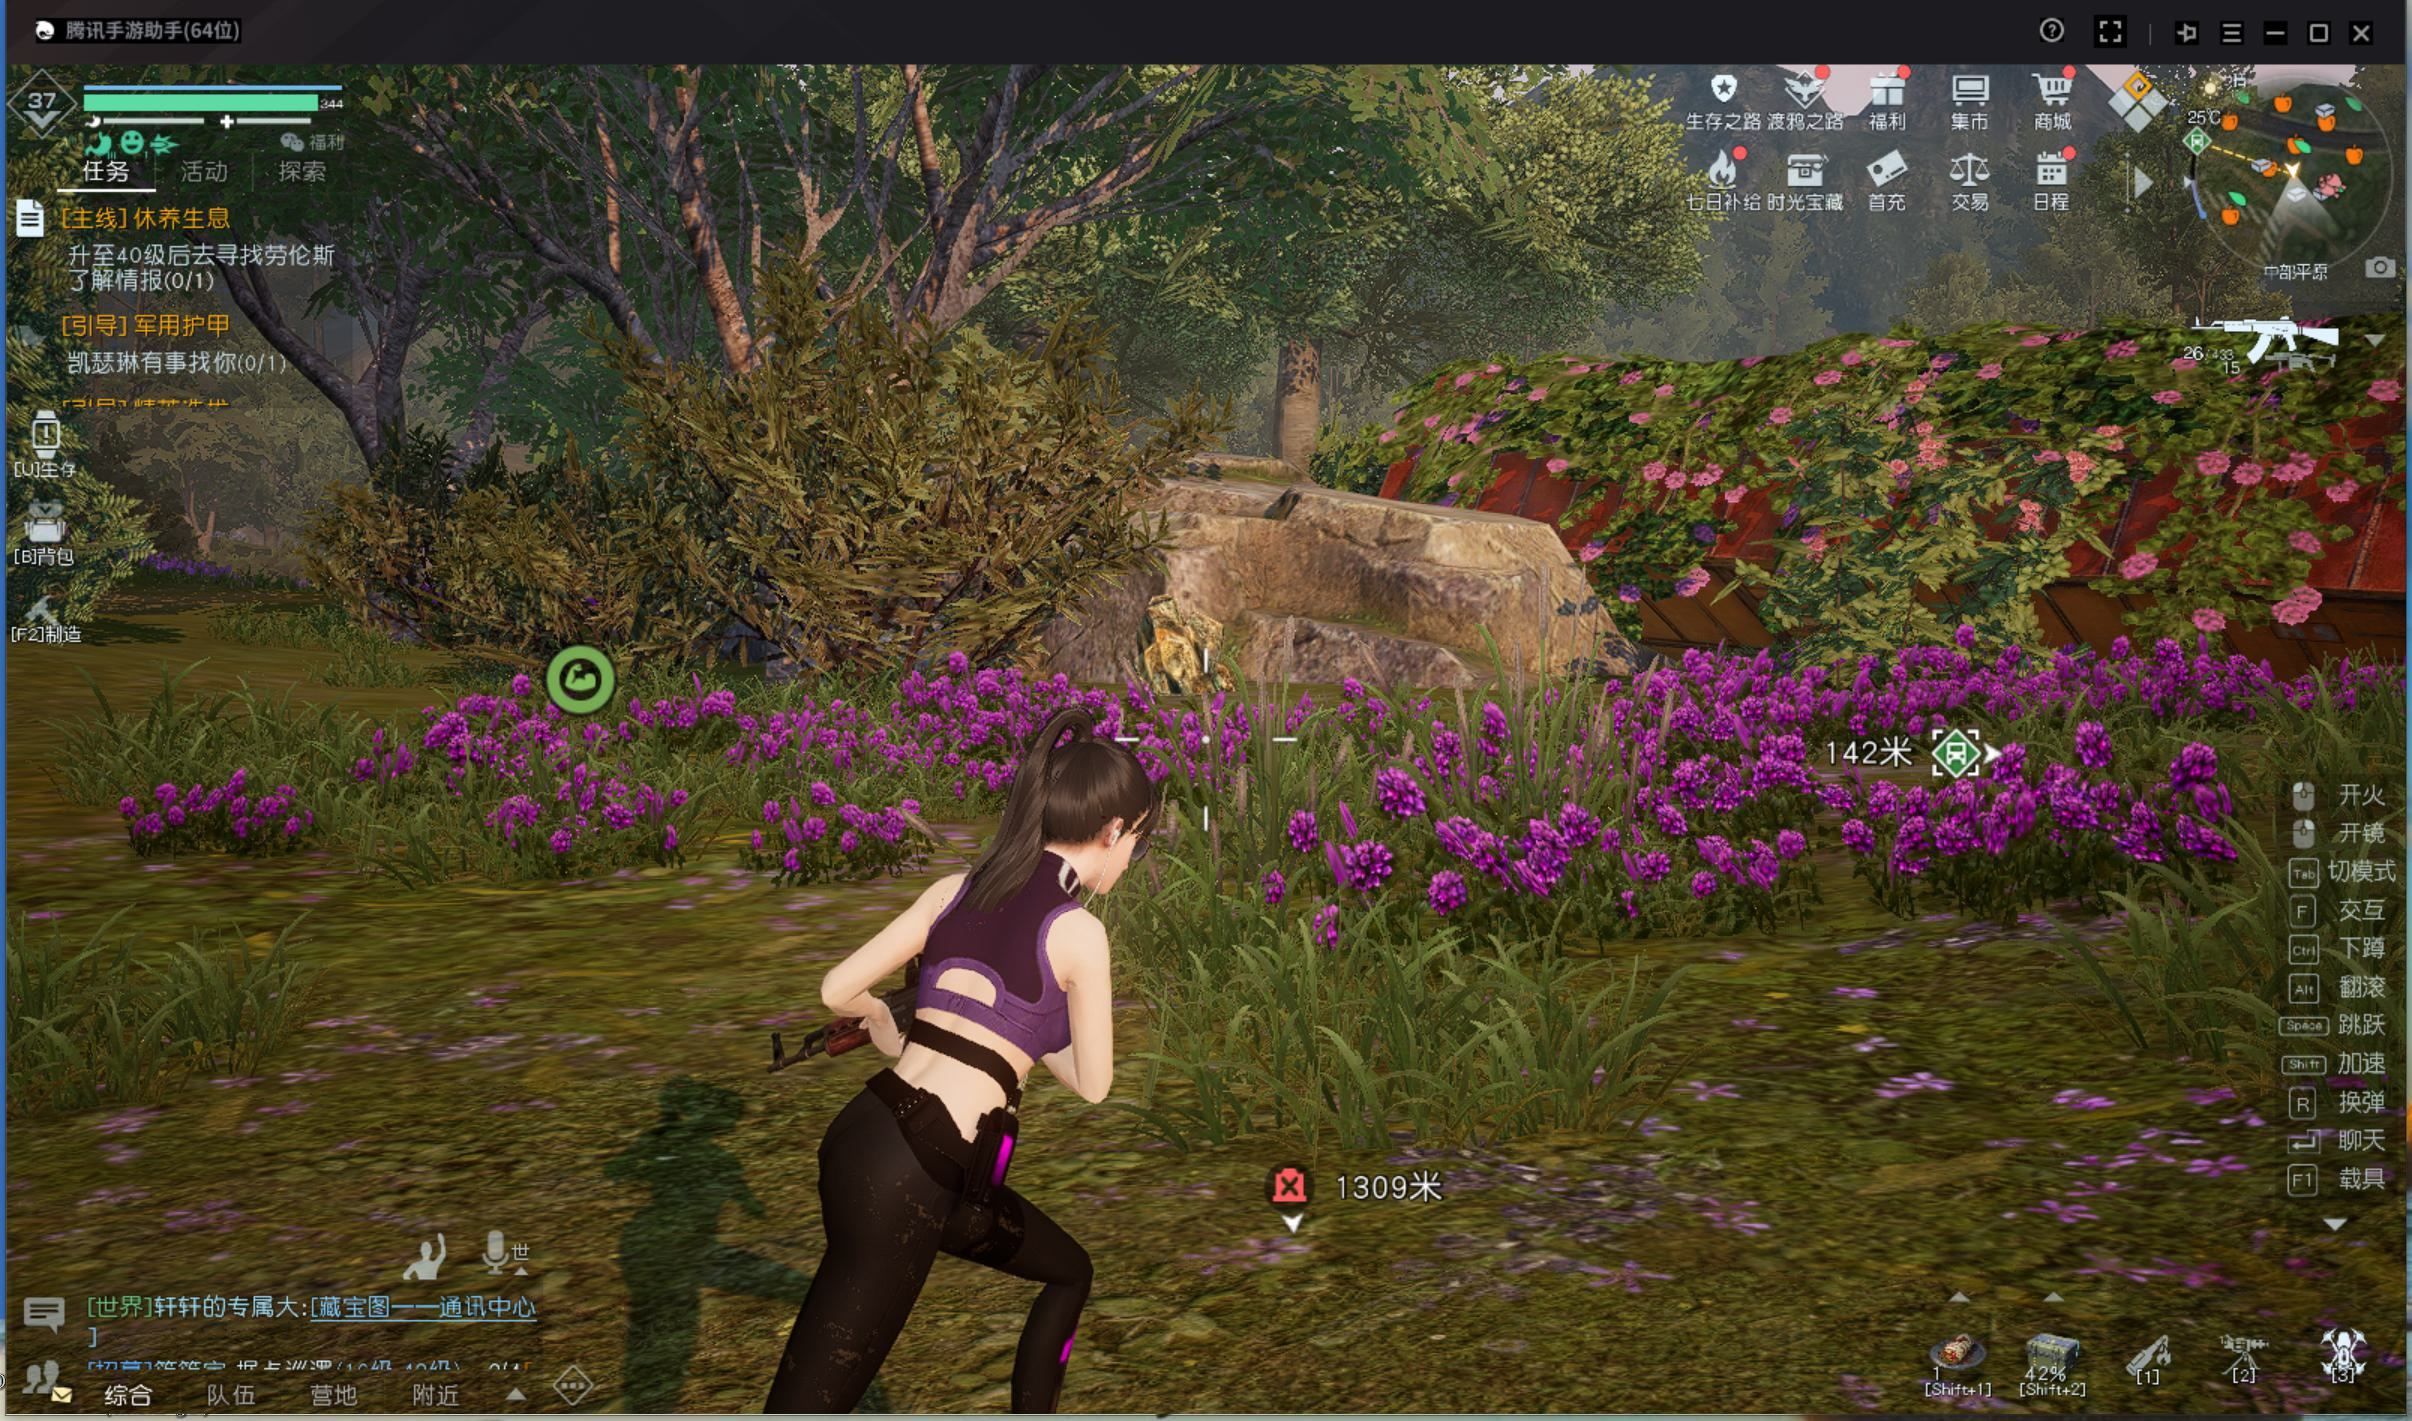tree: (1269, 347, 1328, 464)
